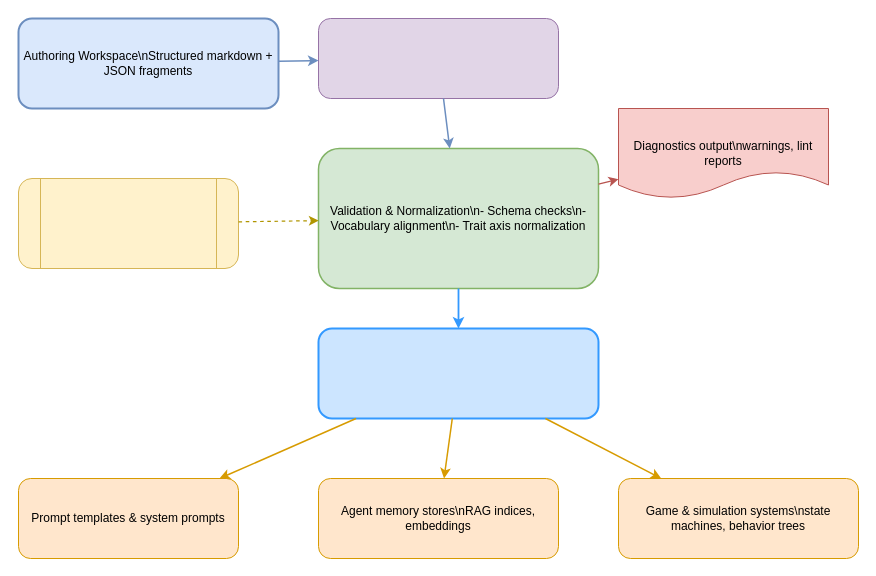
This 876x576 diagram has some shape labels left out. The box of each missing label's shape, as (x1, y1, x2, y2) in pixels:
Controlled vocabularies\nratings, registers, tags: (18, 178, 238, 268)
Normalized CharacterDefinition JSON: (317, 327, 599, 419)
Source control & reviews\nbranch policies, lint hooks: (318, 18, 558, 98)
